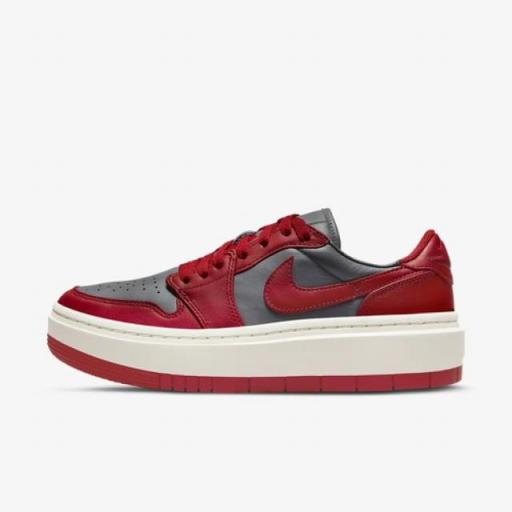Nike: (255, 258, 420, 317)
